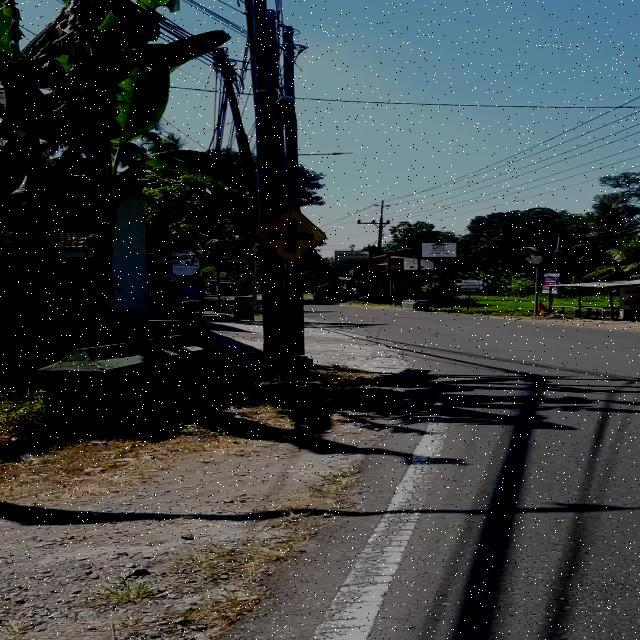Persimpangan 4: (253, 206, 326, 264)
